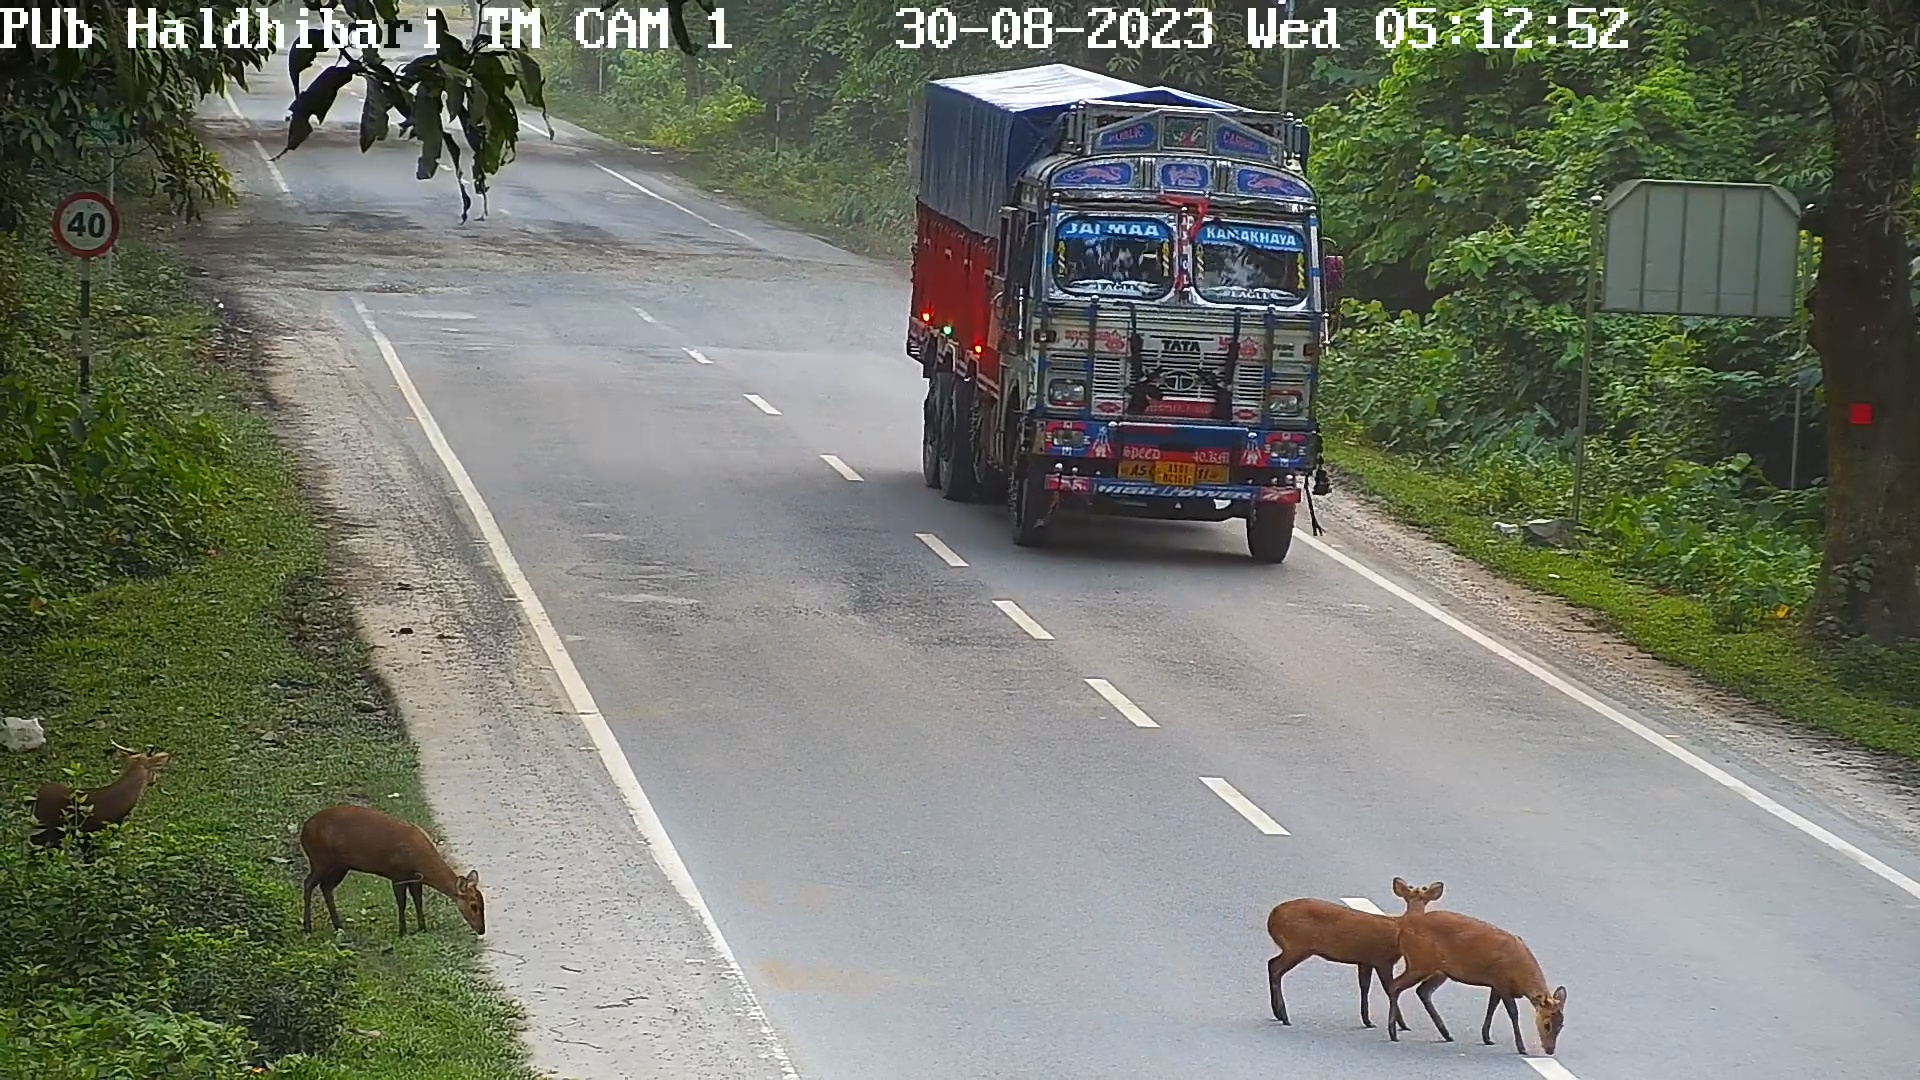deers: (290, 732, 477, 973), (1415, 840, 1581, 1071), (1241, 852, 1448, 1030), (11, 708, 154, 897)
